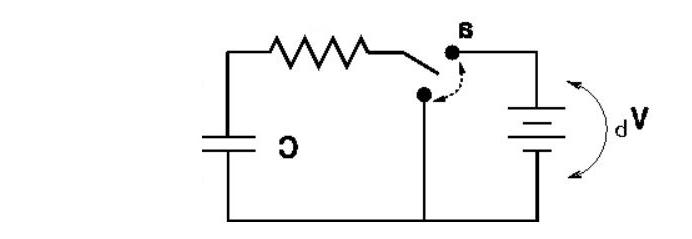resistor: (256, 23, 377, 77)
